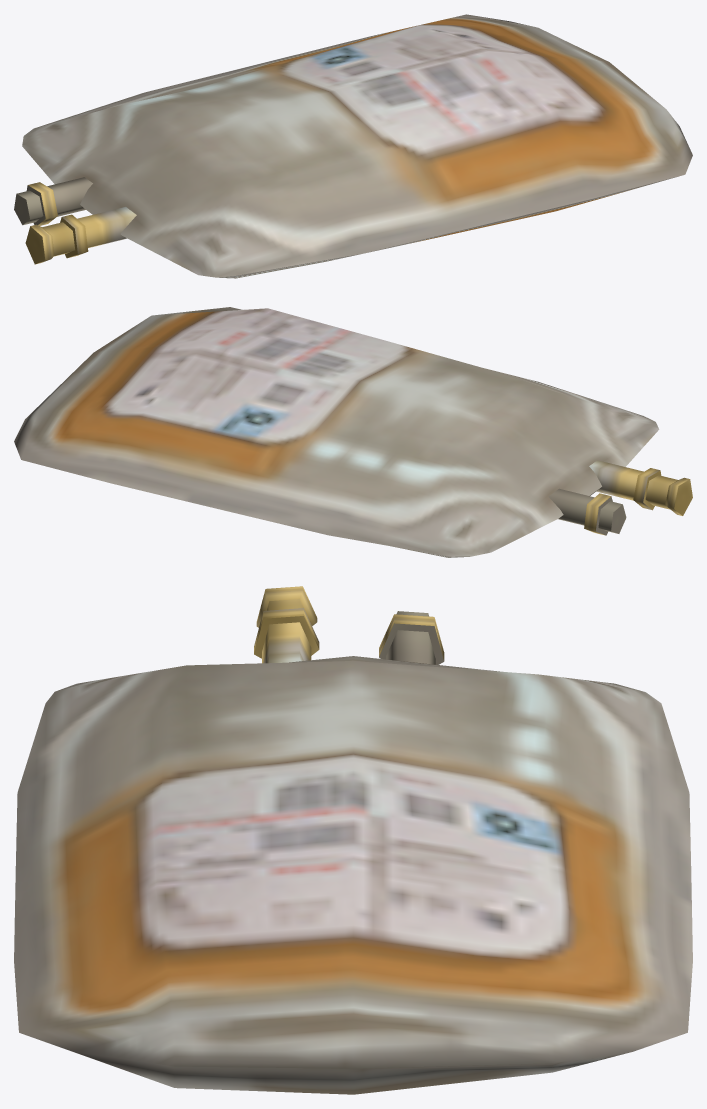
File: G_SiZheBingFang_01_ShuYeDai_01.FBX
3 renders of one model, top to bottom at view 1: azimuth 30°, elevation 25°; view 2: azimuth 150°, elevation 25°; view 3: azimuth 270°, elevation 25°, orthographic. The views are drawn at different scales.
Parts seen in each view (by area): view 1: polySurface4; view 2: polySurface4; view 3: polySurface4.
Part boxes in pixels (box(x1,y1,x2,y2)): polySurface4: box(14, 14, 692, 278); polySurface4: box(14, 307, 692, 557); polySurface4: box(14, 586, 692, 1094).
Bounding box in the file's own units: 37.47 × 7.33 × 23.61.
